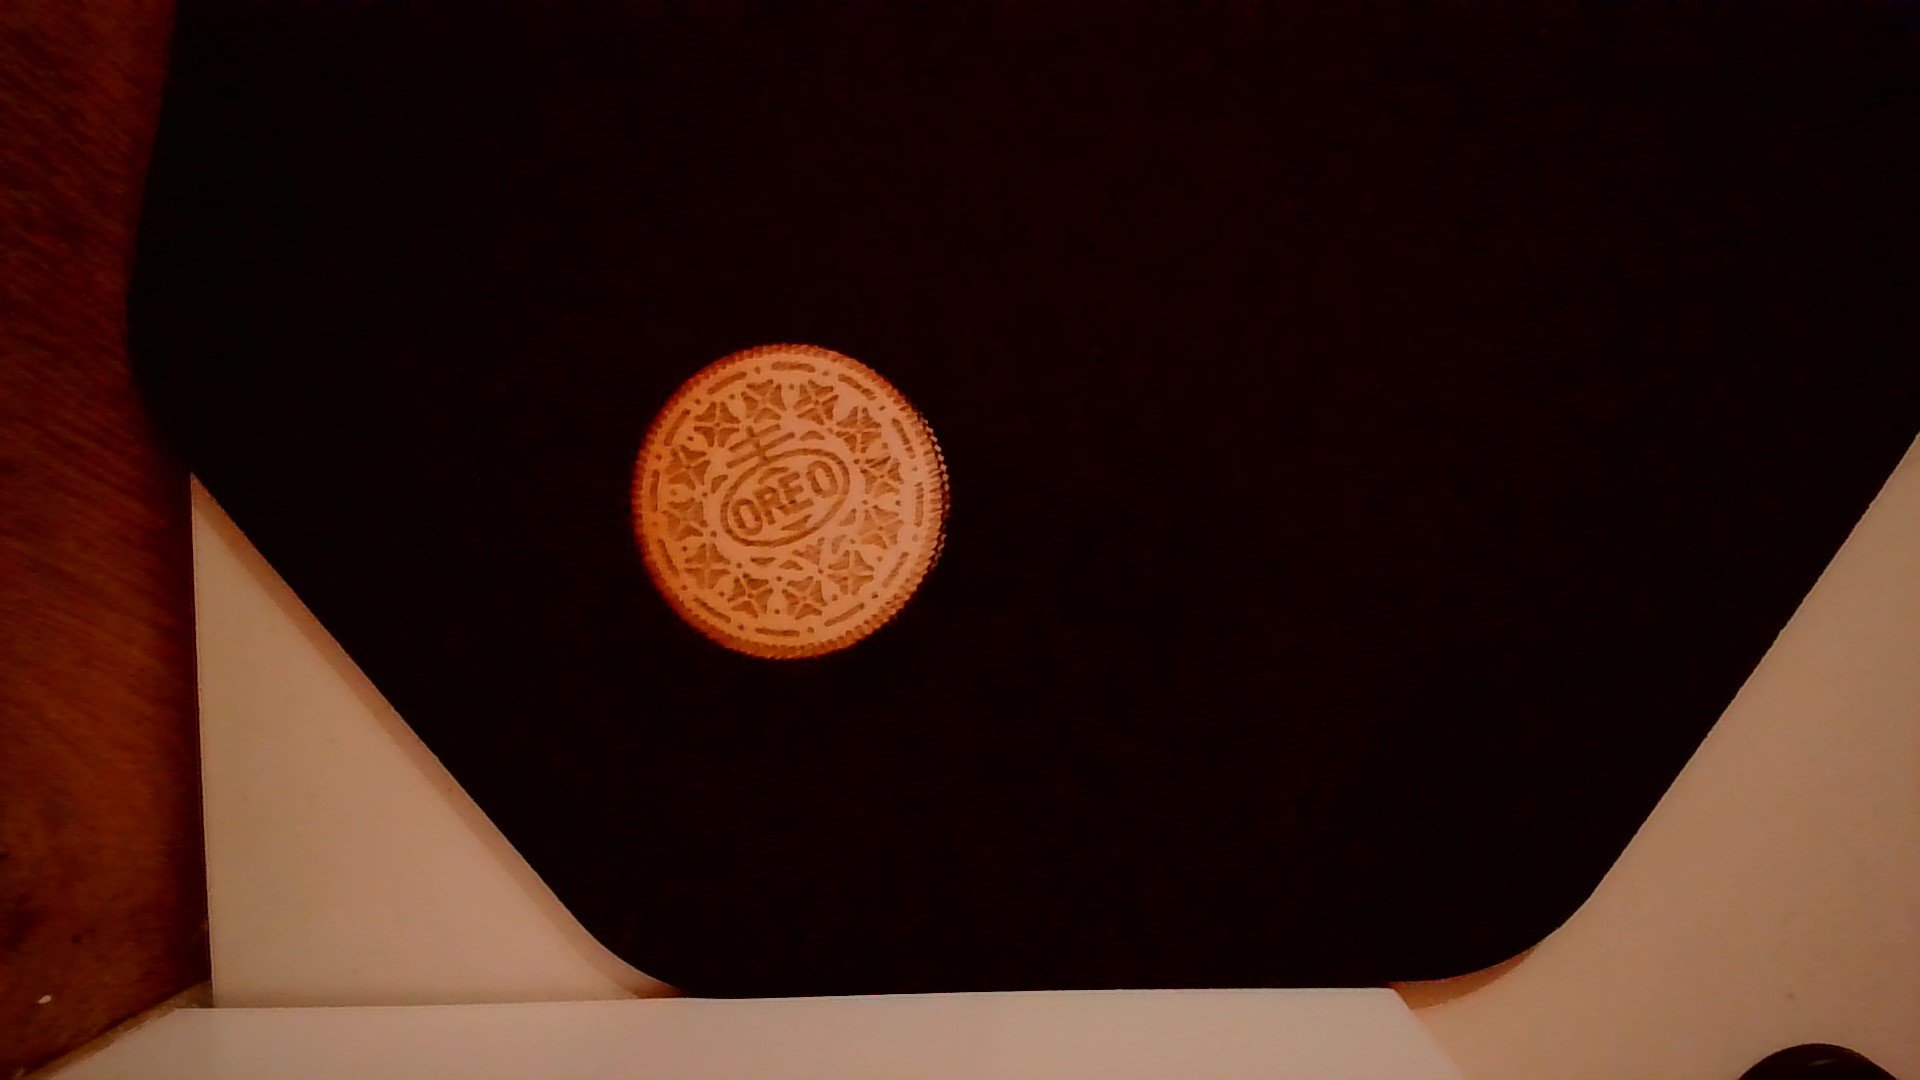Oréo: (618, 338, 957, 675)
